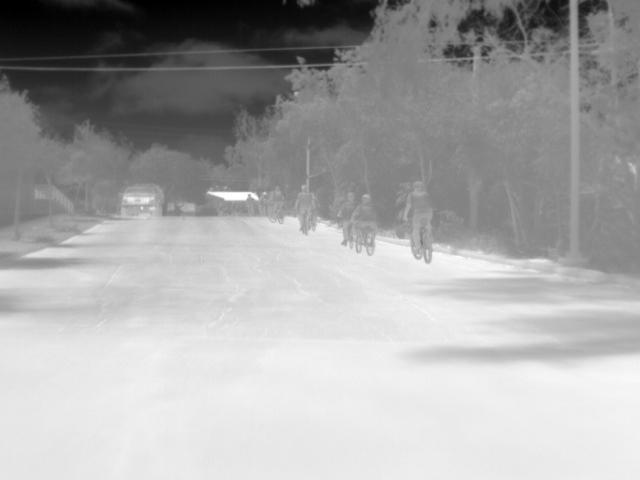car: (118, 184, 163, 219)
person: (403, 181, 434, 256), (349, 193, 379, 238), (294, 184, 318, 228), (271, 184, 285, 218), (244, 192, 257, 213)
